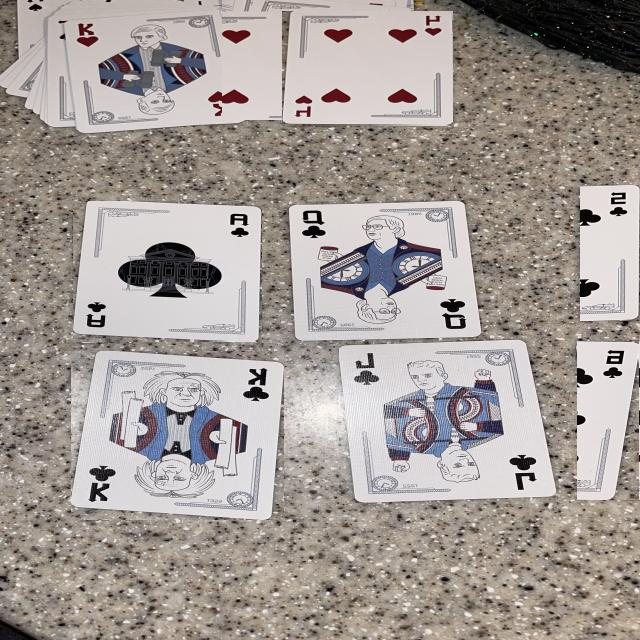4 of hearts: (282, 11, 453, 125)
5 of clubs: (580, 185, 640, 321)
5 of hearts: (222, 0, 411, 120)
6 of clubs: (578, 342, 638, 500)
Ace of clubs: (73, 201, 262, 341)
Jack of clubs: (340, 340, 557, 502)
King of clubs: (71, 352, 284, 520)
King of hearts: (65, 7, 244, 132)
Queen of clubs: (289, 201, 482, 340)
